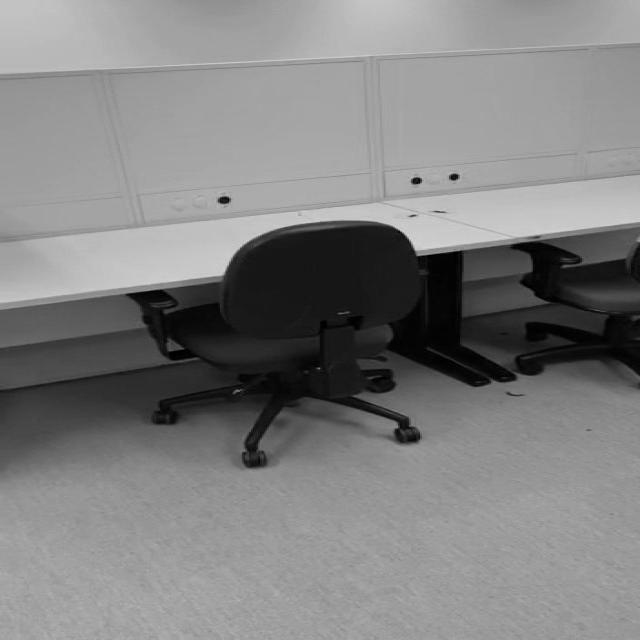cadeira-azul: (128, 219, 422, 469)
